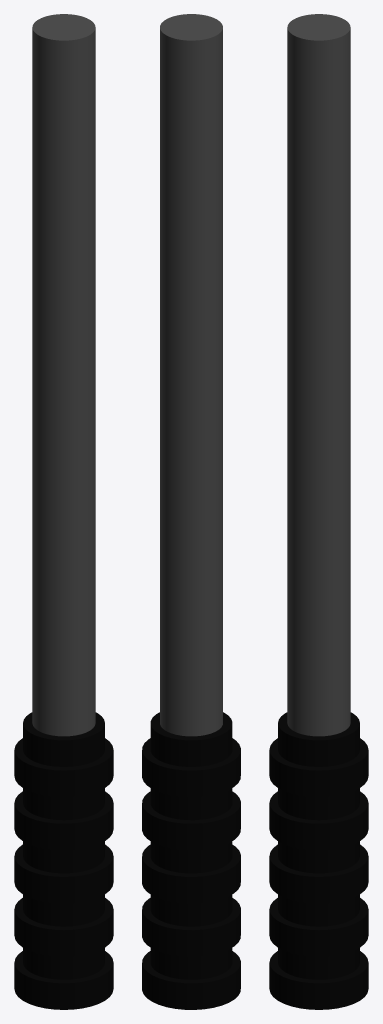
File: Baton.fbx
3 views of the same model, side by side, from view 1: azimuth 90°, elevation 25°; view 2: azimuth 150°, elevation 25°; view 3: azimuth 270°, elevation 25° (orthographic).
Visible parts, largest first — view 1: Cylinder; view 2: Cylinder; view 3: Cylinder.
Boxes of the visible parts, bbox=[...] form: Cylinder: bbox=[14, 14, 113, 1009]; Cylinder: bbox=[142, 14, 240, 1009]; Cylinder: bbox=[269, 14, 368, 1009].
Bounding box in the file's own units: 6.72 × 72.13 × 6.72.
1 material, 1 textured.
